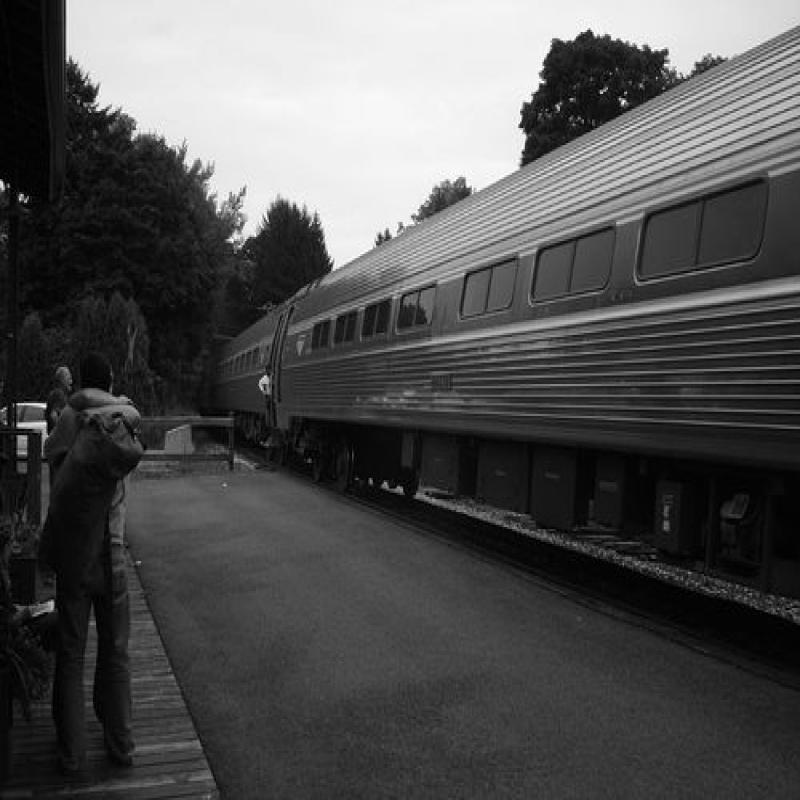train: (200, 20, 800, 645)
